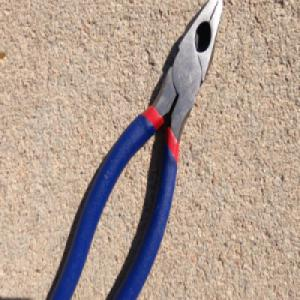Pliers: (47, 0, 222, 300)
